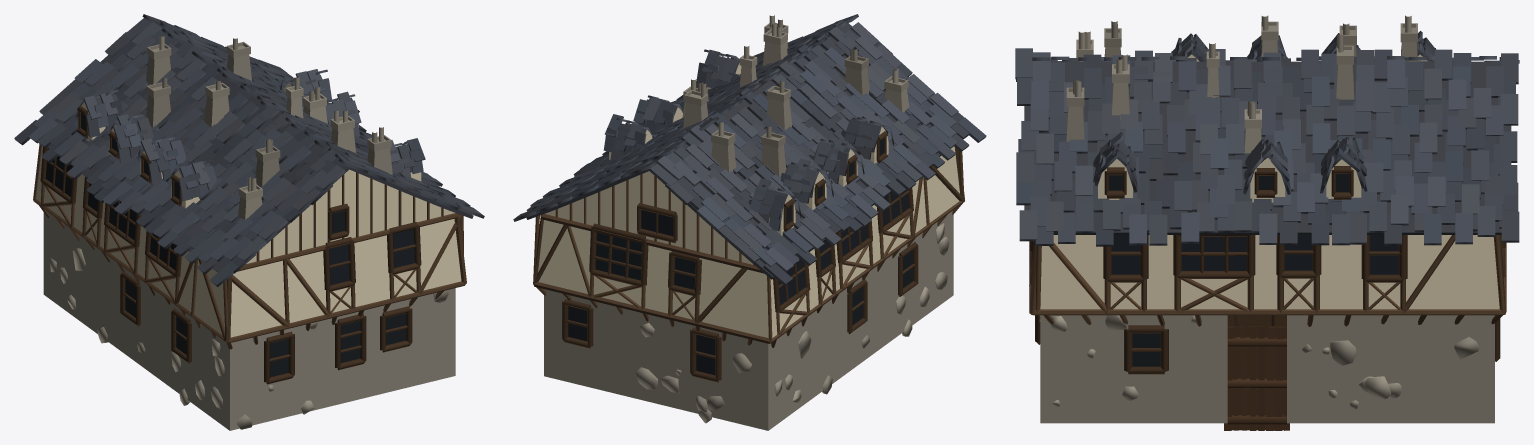
The model's file is house_05.glb.
3 renders of one model, left to right at view 1: azimuth 30°, elevation 25°; view 2: azimuth 150°, elevation 25°; view 3: azimuth 270°, elevation 25°, orthographic. The views are drawn at different scales.
Visible parts, largest first — view 1: house_05; view 2: house_05; view 3: house_05.
Part boxes in pixels (<box>): house_05: <box>14,14,484,430</box>; house_05: <box>513,14,986,430</box>; house_05: <box>1015,15,1519,430</box>.
Bounding box in the file's own units: 7.06 × 6.96 × 9.25.
